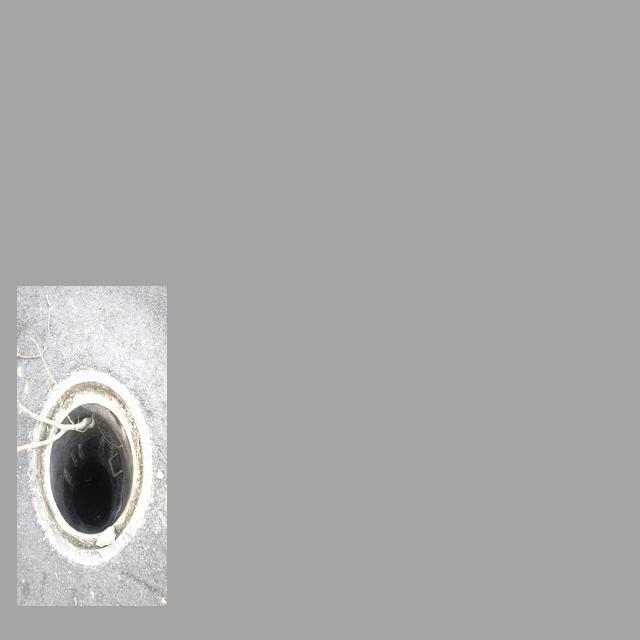lose: (26, 370, 155, 566)
